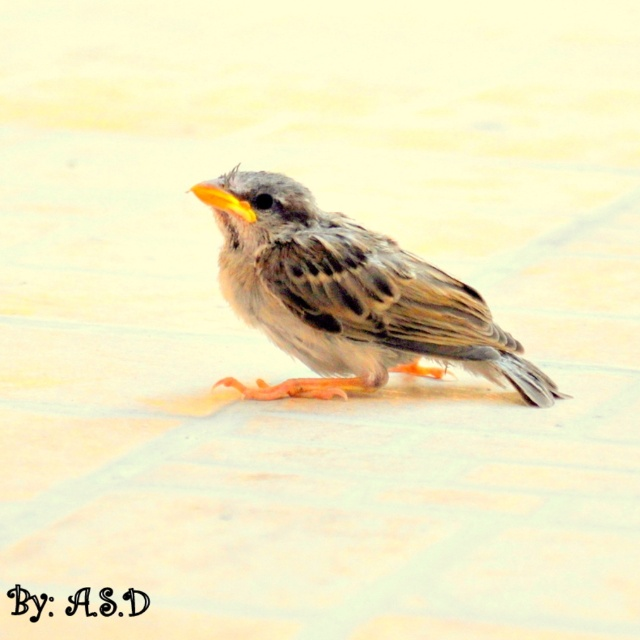Sparrow: (185, 162, 574, 409)
